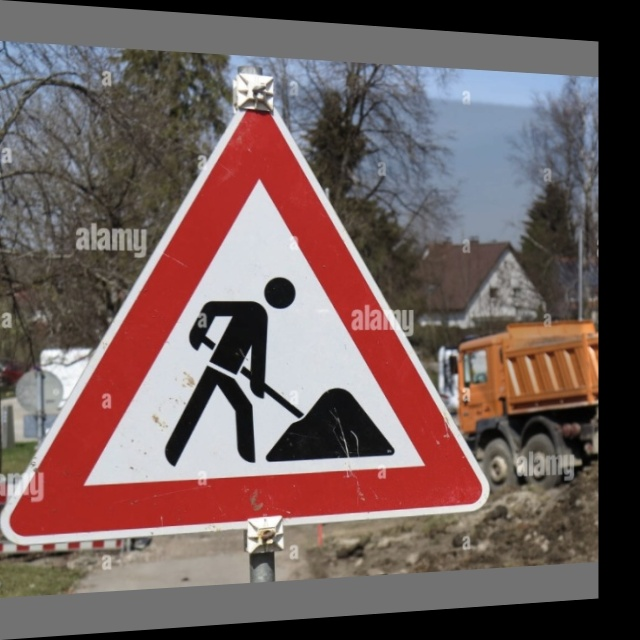Men_at_Work: (72, 109, 461, 519)
